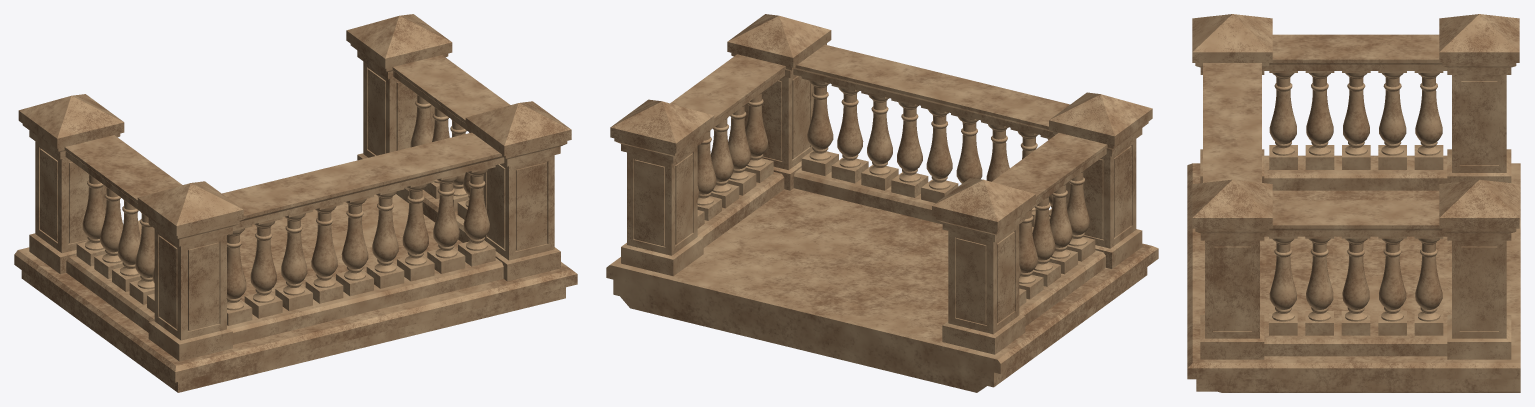
Rendered from Balustrade Balcony.fbx.
3 views of the same model, side by side, from view 1: azimuth 30°, elevation 25°; view 2: azimuth 150°, elevation 25°; view 3: azimuth 270°, elevation 25° (orthographic). The views are drawn at different scales.
Visible parts, largest first — view 1: Posts 001, Rails 001, Base 001, Baluster 001, Baluster 002, Baluster 003; view 2: Base 001, Posts 001, Rails 001, Baluster 001, Baluster 003, Baluster 002; view 3: Posts 001, Rails 001, Base 001, Baluster 003, Baluster 002.
Boxes of the visible parts, x1,y1,x2,y2 form: Posts 001: [18, 14, 571, 361]; Rails 001: [64, 55, 510, 344]; Base 001: [14, 194, 577, 392]; Baluster 001: [227, 165, 495, 325]; Baluster 002: [76, 172, 154, 312]; Baluster 003: [410, 93, 469, 219]; Base 001: [606, 188, 1158, 392]; Posts 001: [610, 14, 1152, 354]; Rails 001: [670, 44, 1107, 326]; Baluster 001: [801, 77, 1052, 226]; Baluster 003: [697, 92, 773, 228]; Baluster 002: [1019, 169, 1095, 306]; Posts 001: [1192, 14, 1519, 359]; Rails 001: [1203, 34, 1447, 356]; Base 001: [1187, 163, 1520, 392]; Baluster 003: [1269, 236, 1443, 335]; Baluster 002: [1269, 71, 1443, 169].
Bounding box in the file's own units: 339 × 161 × 235.
4 materials, 4 textured.
